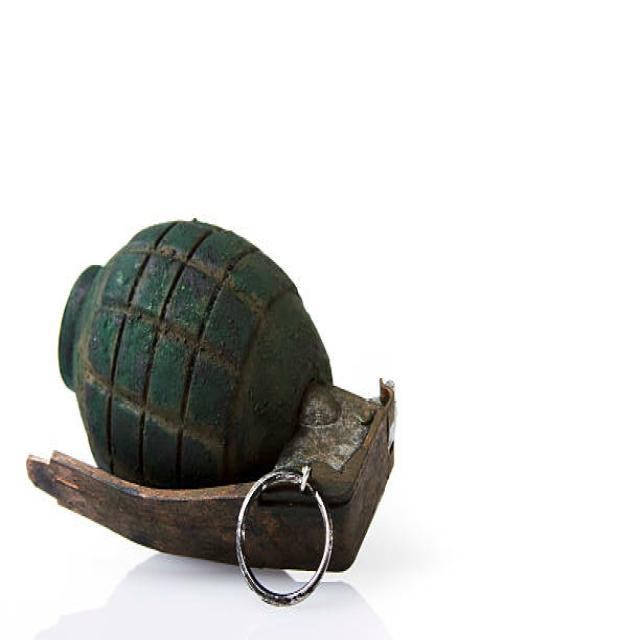grenade: (25, 212, 404, 615)
